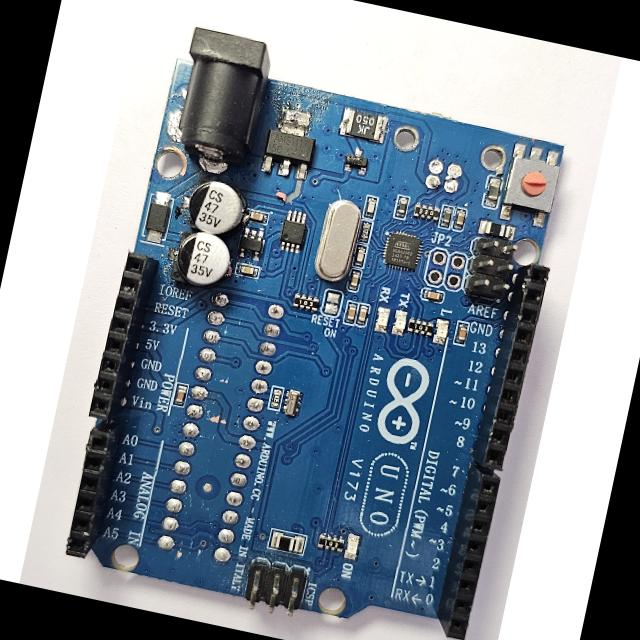missing_atmega: (151, 287, 293, 576)
missing_usb: (378, 120, 493, 206)
